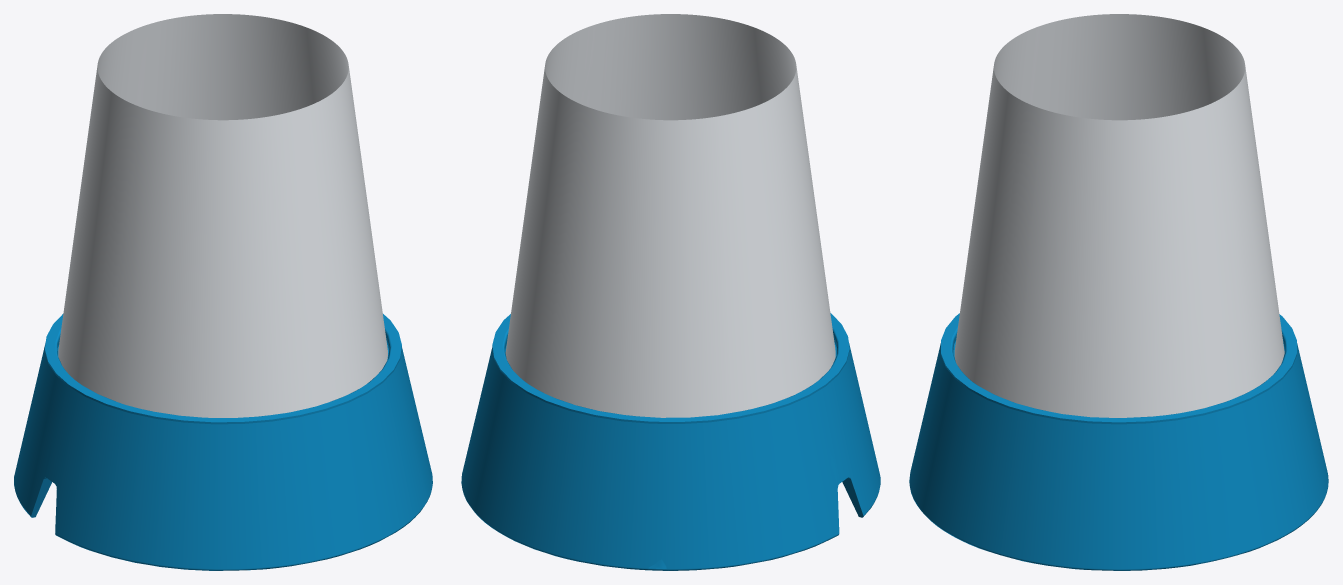
File: amelia.glb
3 views of the same model, side by side, from view 1: azimuth 30°, elevation 25°; view 2: azimuth 150°, elevation 25°; view 3: azimuth 270°, elevation 25° (orthographic).
Parts seen in each view (by area): view 1: Cylinder, base nuova inclinata; view 2: Cylinder, base nuova inclinata; view 3: Cylinder, base nuova inclinata.
Boxes of the visible parts, bbox=[...] form: Cylinder: bbox=[58, 14, 387, 417]; base nuova inclinata: bbox=[14, 314, 432, 570]; Cylinder: bbox=[505, 14, 835, 417]; base nuova inclinata: bbox=[461, 313, 880, 570]; Cylinder: bbox=[954, 14, 1284, 417]; base nuova inclinata: bbox=[909, 313, 1328, 570].
Bounding box in the file's own units: 1.23 × 1.35 × 1.24.
